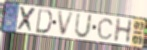C: (96, 18, 115, 41)
D: (35, 9, 53, 35)
H: (112, 17, 134, 44)
U: (73, 13, 93, 39)
V: (57, 10, 76, 37)
X: (17, 6, 38, 34)
